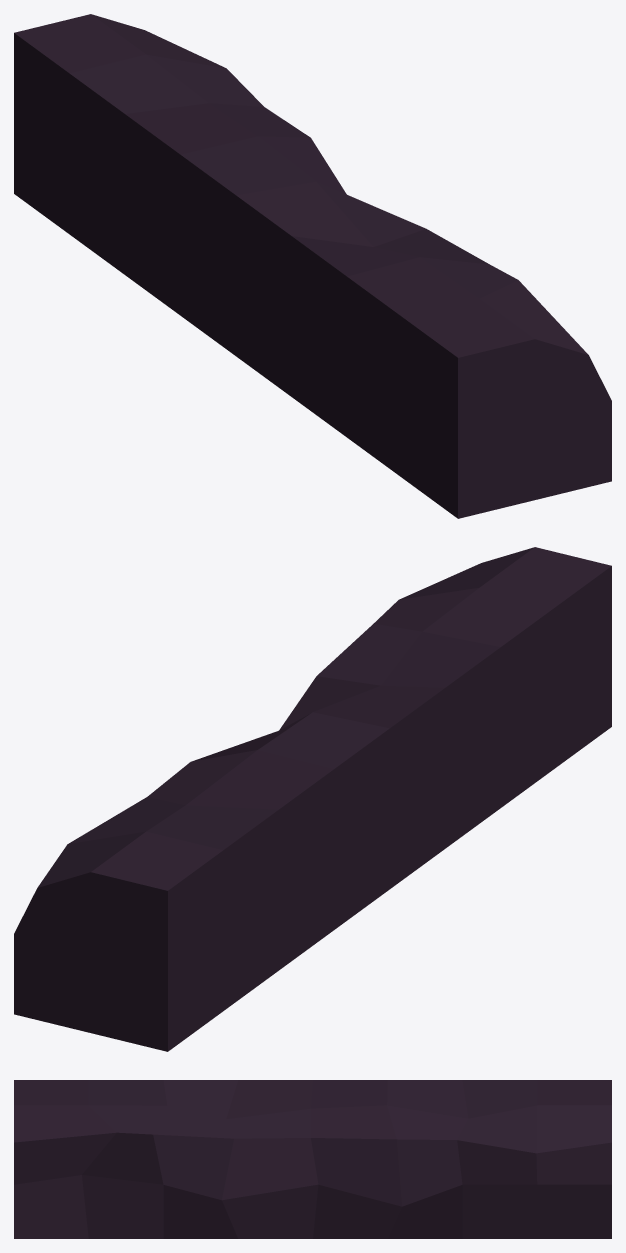
The model's file is CliffTopSide.fbx.
3 renders of one model, top to bottom at view 1: azimuth 30°, elevation 25°; view 2: azimuth 150°, elevation 25°; view 3: azimuth 270°, elevation 25°, orthographic. The views are drawn at different scales.
Visible parts, largest first — view 1: CliffTopSide; view 2: CliffTopSide; view 3: CliffTopSide.
Boxes of the visible parts, <box> form: CliffTopSide: <box>14,14,611,518</box>; CliffTopSide: <box>14,547,611,1051</box>; CliffTopSide: <box>14,1080,611,1238</box>.
Bounding box in the file's own units: 43.02 × 40 × 200.
